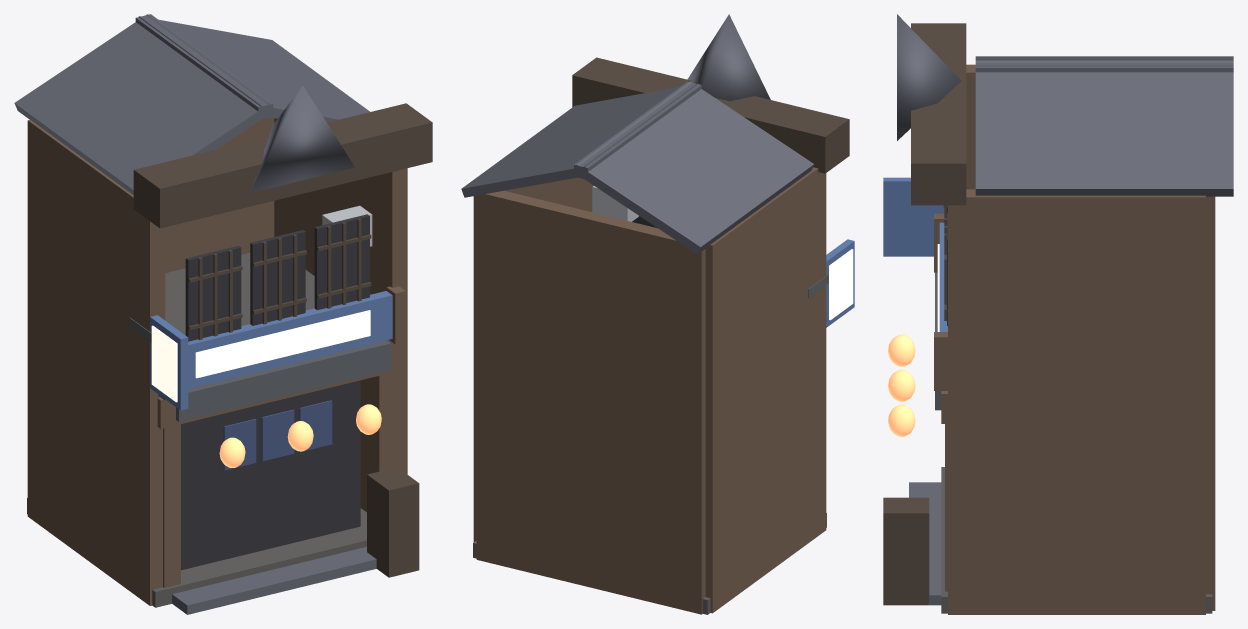
Rendered from prop_shop_sento.glb.
The picture shows the model from 3 angles, left to right: view 1: azimuth 30°, elevation 25°; view 2: azimuth 150°, elevation 25°; view 3: azimuth 270°, elevation 25°; orthographic projection. The views are drawn at different scales.
Parts seen in each view (by area): view 1: shop_sento; view 2: shop_sento; view 3: shop_sento.
Part boxes in pixels (left/top/right/bottom): shop_sento: left=14, top=14, right=432, bottom=614; shop_sento: left=461, top=14, right=854, bottom=614; shop_sento: left=883, top=14, right=1233, bottom=614.
Size of the model in its own units: 3.6 by 6.4 by 3.8.
